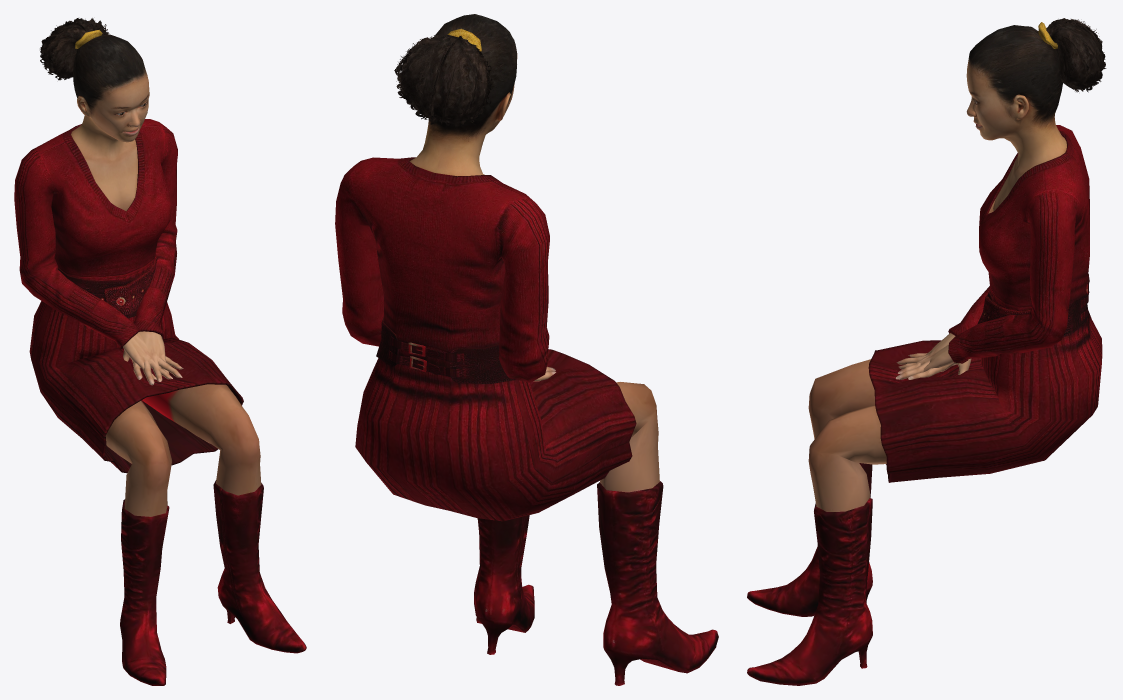
The model's file is actress-seated.glb.
3 renders of one model, left to right at view 1: azimuth 30°, elevation 25°; view 2: azimuth 150°, elevation 25°; view 3: azimuth 270°, elevation 25°, orthographic. The views are drawn at different scales.
Visible parts, largest first — view 1: actress-mesh; view 2: actress-mesh; view 3: actress-mesh.
Part boxes in pixels (left/top/right/bottom): actress-mesh: left=14, top=18, right=306, bottom=685; actress-mesh: left=335, top=14, right=718, bottom=685; actress-mesh: left=747, top=18, right=1106, bottom=685.
Size of the model in its own units: 0.4407 by 1.42 by 0.7545.
Materials: 3 (3 with a texture image).
